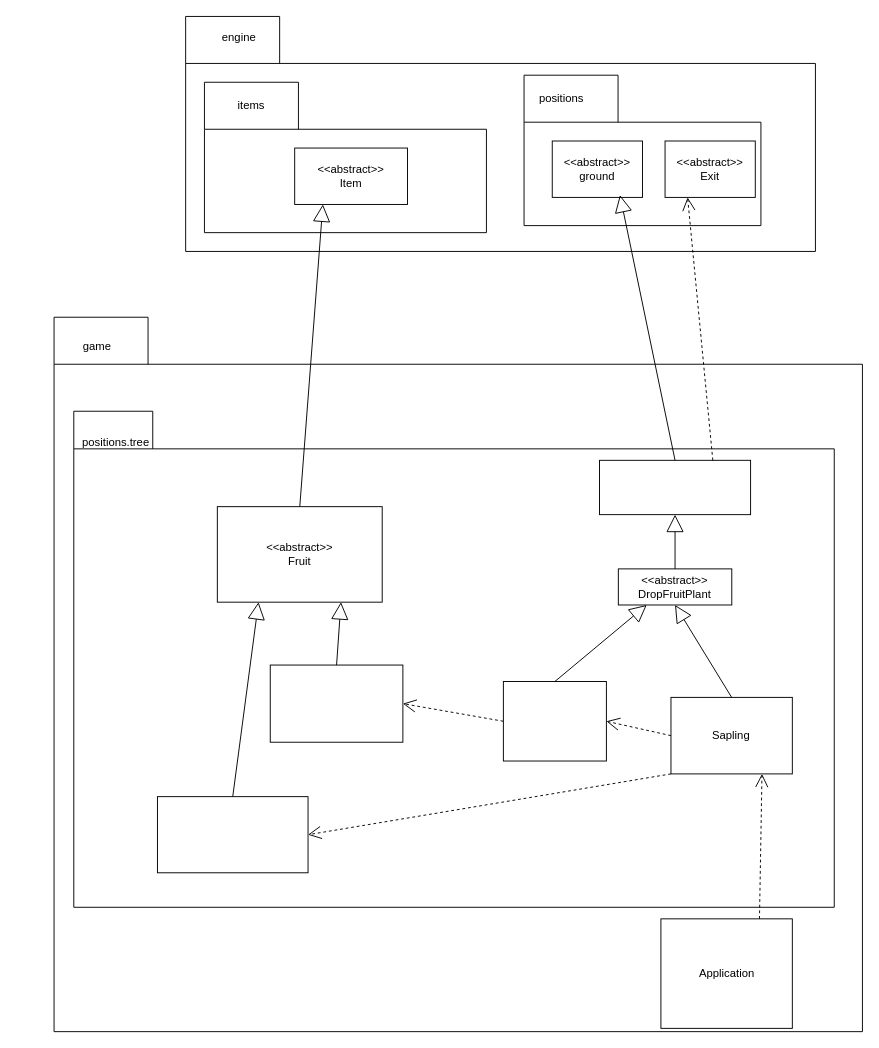
Some shapes in this 879 by 1048 pixel diagram are drawn without their labels. Here are the shapes that lost their labels. From the top down, the centre of each, then its label:
At (675,487): "<<abstract>> Plant".
At (336,703): "LargeFruit".
At (554,721): "LargeInheritree".
At (232,834): "SmallFruit".
